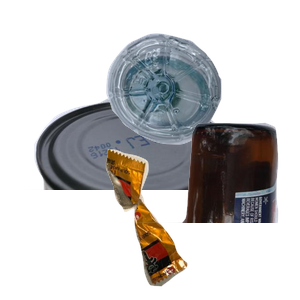glass: (87, 120, 300, 300)
metal: (16, 96, 244, 276)
plastic: (104, 31, 300, 168)
trash: (103, 147, 300, 300)
